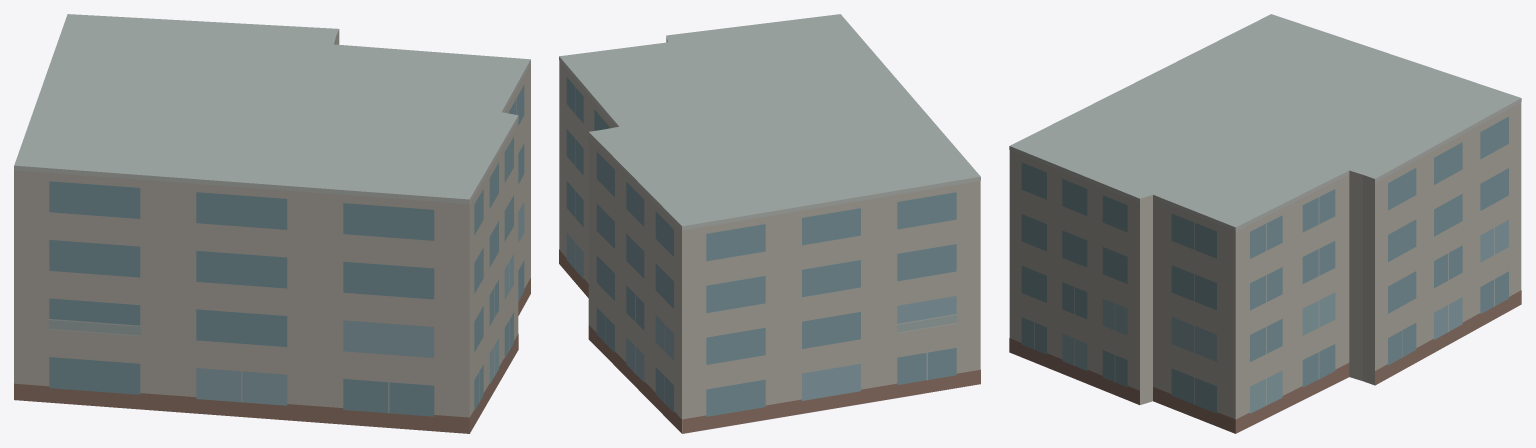
File: survey-upis-32770455.glb
The picture shows the model from 3 angles, left to right: view 1: azimuth 30°, elevation 25°; view 2: azimuth 150°, elevation 25°; view 3: azimuth 270°, elevation 25°; orthographic projection. The views are drawn at different scales.
Visible parts, largest first — view 1: survey-upis-32770455.tmp; view 2: survey-upis-32770455.tmp; view 3: survey-upis-32770455.tmp.
Boxes of the visible parts, <box> form: survey-upis-32770455.tmp: <box>14,14,530,433</box>; survey-upis-32770455.tmp: <box>559,14,980,433</box>; survey-upis-32770455.tmp: <box>1009,14,1521,433</box>.
Bounding box in the file's own units: 27.27 × 12.3 × 27.64.
